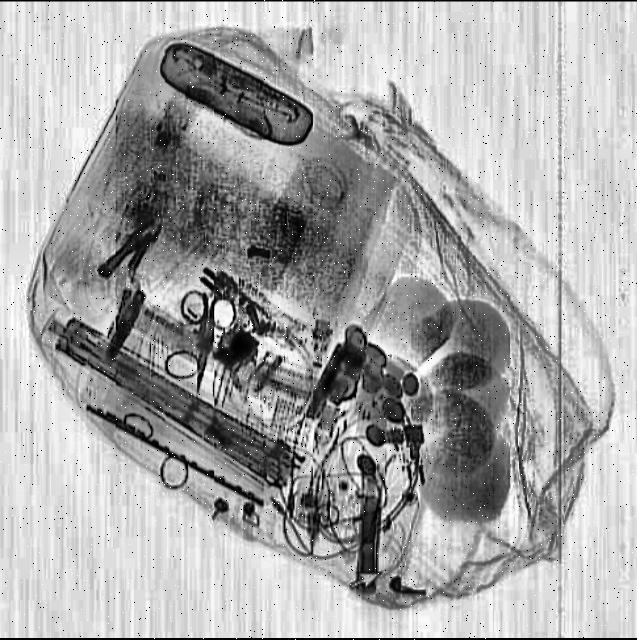Scissors: (172, 288, 238, 396)
